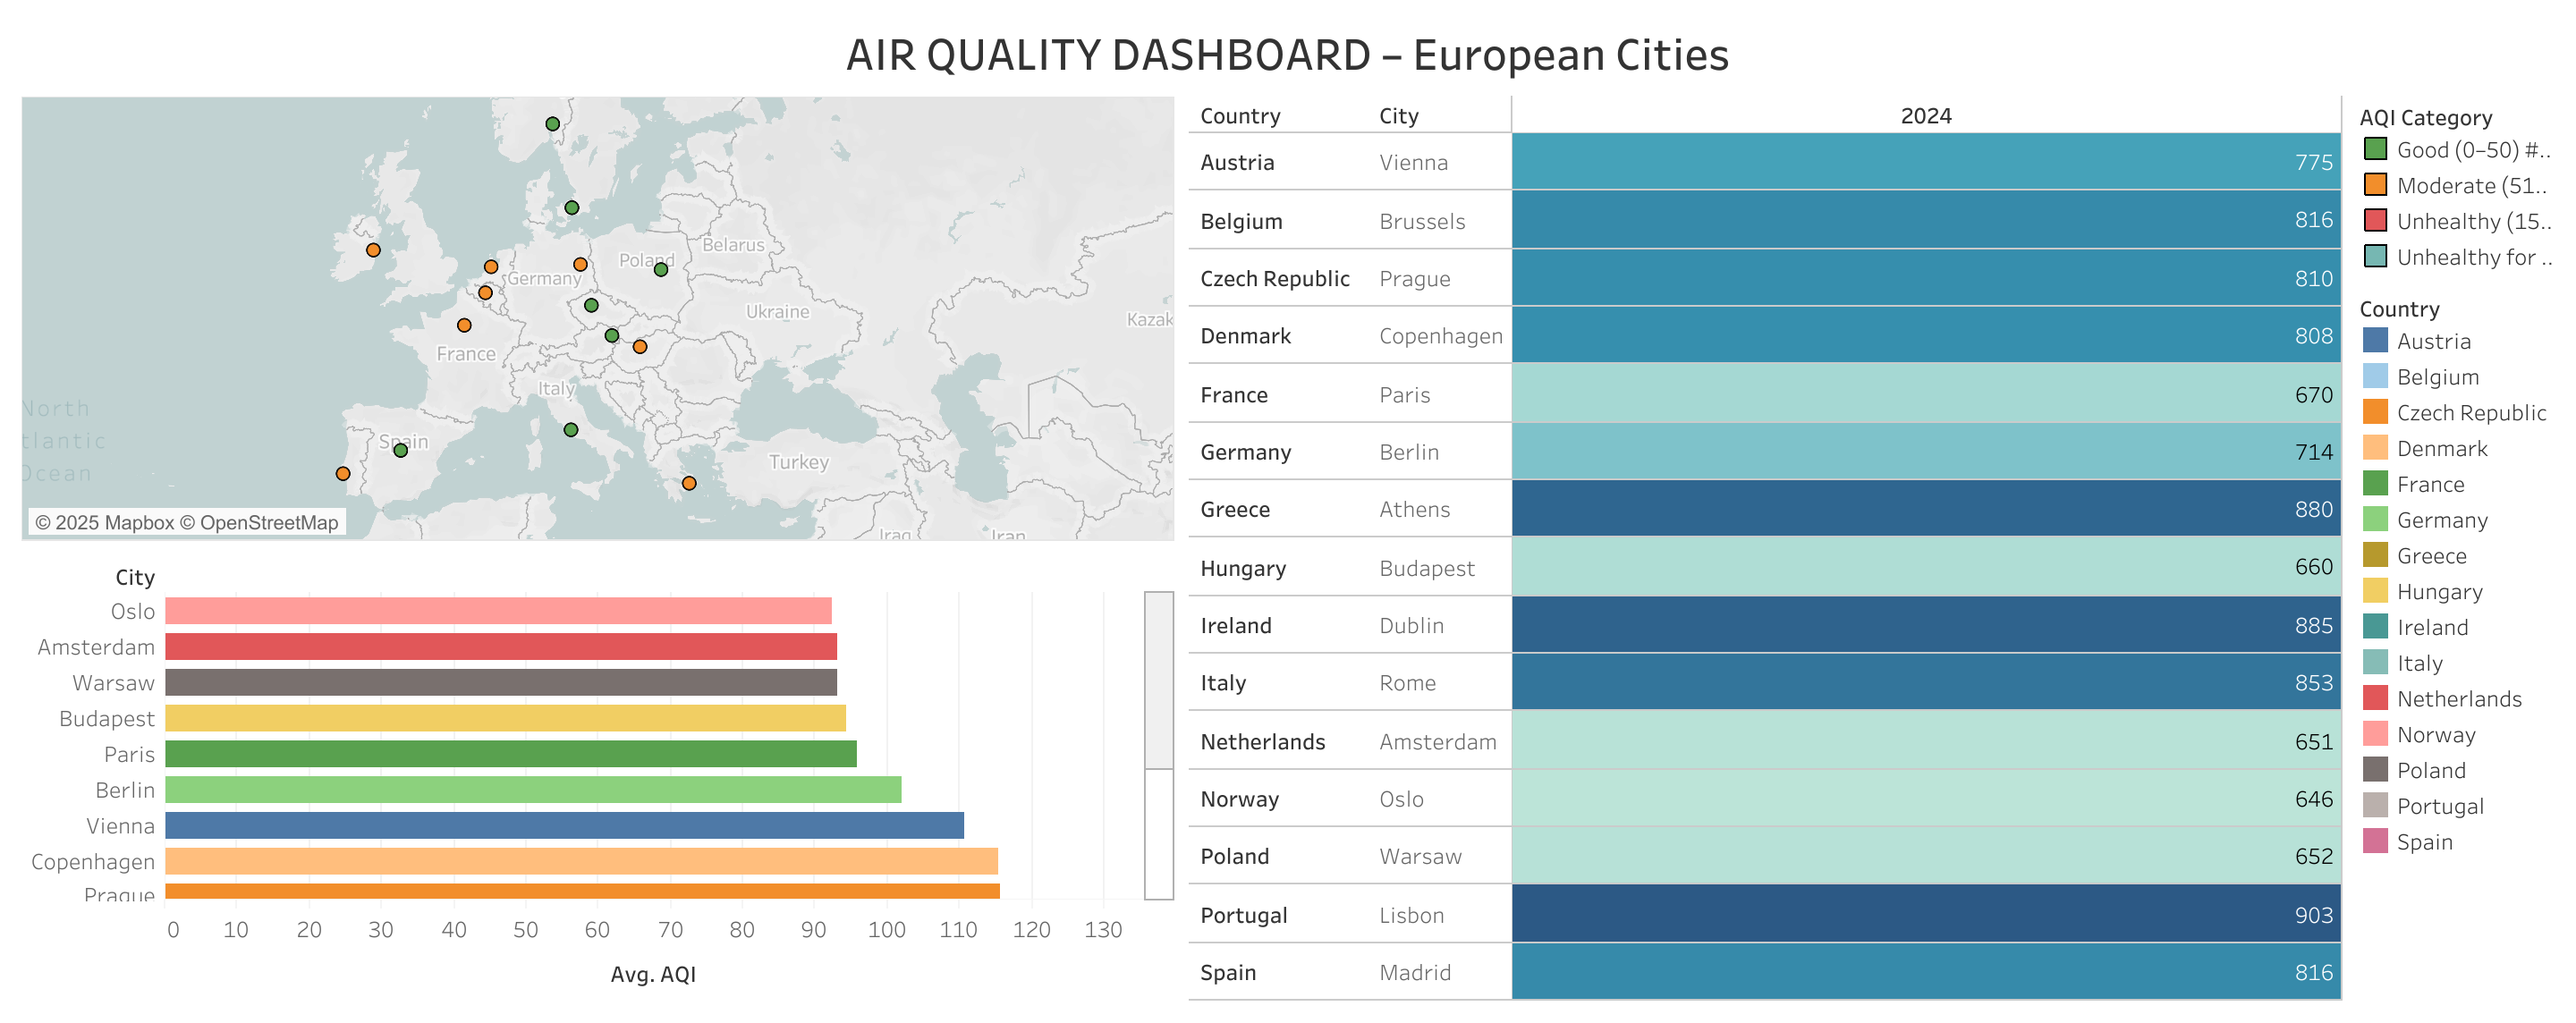

Layout of this report page (visuals, bound fields, positions):
{"tool":"tableau","page":{"name":"AIR QUALITY DASHBOARD – European Cities","canvas":[1000,1000],"units":"permille","ordinal":0},"visuals":[{"type":"title","box":[6.6,12.7,986.9,66.8]},{"type":"worksheet","title":"AQI Map","mark":"Multipolygon","box":[6.6,79.5,444.9,453.9]},{"type":"worksheet","title":"AQI Over Time","mark":"Square","rows":["Country","City"],"cols":["Date"],"box":[451.5,79.5,445,907.8]},{"type":"legend","title":"AQI Map","param":"[federated.02ehctg0mmir7s14plnkn0p0bvc3].[none:Calculation_1125900913557575:nk]","box":[896.5,79.5,97,170.1]},{"type":"legend","title":"AQI Rankings","param":"[federated.02ehctg0mmir7s14plnkn0p0bvc3].[none:Country:nk]","box":[896.5,249.6,97,519.9]},{"type":"worksheet","title":"AQI Rankings","mark":"Automatic","rows":["City"],"cols":["AQI"],"box":[6.6,533.3,444.9,453.9]}]}

Visuals, with their boxes on the dashboard's canvas, which has no fixed pixel size, in thousandths of its width and height (x1, y1, x2, y2). These are canvas units, not pixel positions in the 2576x1023 screenshot, which may show the page scaled, cropped or inside an application window:
title: bbox=(7, 13, 994, 80)
"AQI Map" worksheet (Multipolygon marks): bbox=(7, 80, 452, 533)
"AQI Over Time" worksheet (Square marks): bbox=(452, 80, 896, 987)
"AQI Map" legend: bbox=(896, 80, 994, 250)
"AQI Rankings" legend: bbox=(896, 250, 994, 770)
"AQI Rankings" worksheet: bbox=(7, 533, 452, 987)
